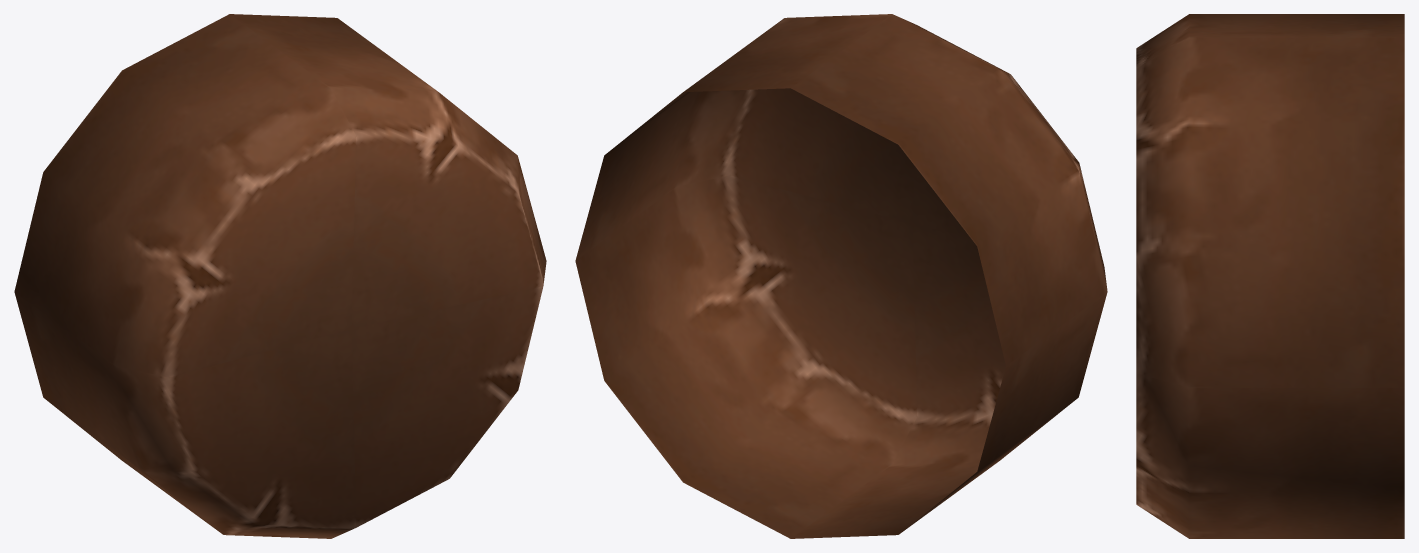
Rendered from sn_jiguan_chilun_002.FBX.
3 renders of one model, left to right at view 1: azimuth 30°, elevation 25°; view 2: azimuth 150°, elevation 25°; view 3: azimuth 270°, elevation 25°, orthographic. The views are drawn at different scales.
Visible parts, largest first — view 1: sn_jiguan_chilun_002; view 2: sn_jiguan_chilun_002; view 3: sn_jiguan_chilun_002.
Part boxes in pixels (bbox=[...]): sn_jiguan_chilun_002: bbox=[14, 14, 546, 538]; sn_jiguan_chilun_002: bbox=[575, 14, 1107, 538]; sn_jiguan_chilun_002: bbox=[1136, 14, 1404, 538].
Bounding box in the file's own units: 144 × 144 × 73.01.
